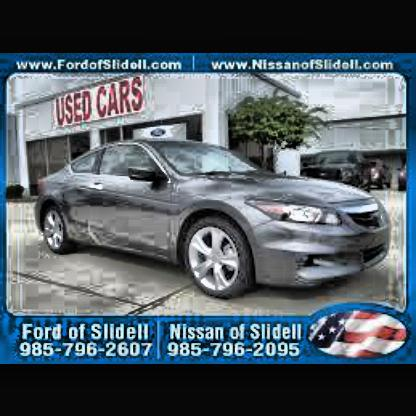Honda Accord Coupe 2012: (34, 140, 393, 300)
